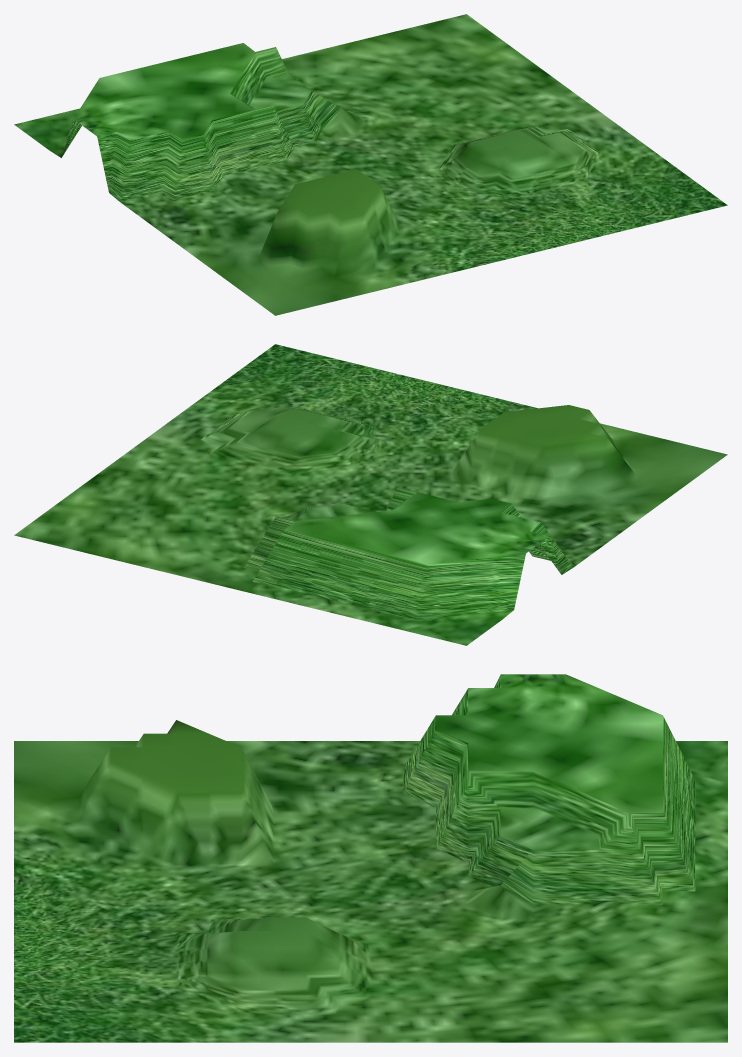
Rendered from fieled.fbx.
The picture shows the model from 3 angles, top to bottom: view 1: azimuth 30°, elevation 25°; view 2: azimuth 150°, elevation 25°; view 3: azimuth 270°, elevation 25°; orthographic projection. The views are drawn at different scales.
Parts seen in each view (by area): view 1: Plane; view 2: Plane; view 3: Plane.
Part boxes in pixels (<box>): Plane: <box>14,14,727,315</box>; Plane: <box>14,344,727,645</box>; Plane: <box>14,674,727,1042</box>.
Bounding box in the file's own units: 2000 × 206 × 2000.
